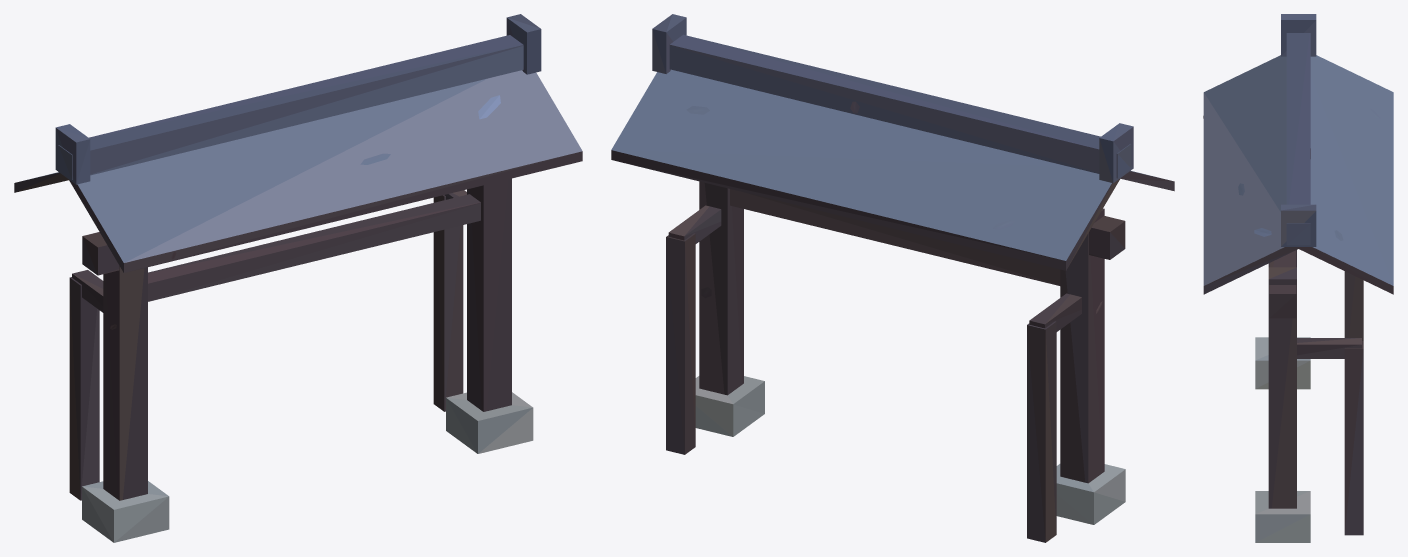
Rendered from HK_Gate.lod.glb.
3 views of the same model, side by side, from view 1: azimuth 30°, elevation 25°; view 2: azimuth 150°, elevation 25°; view 3: azimuth 270°, elevation 25° (orthographic). The views are drawn at different scales.
Parts seen in each view (by area): view 1: HK_Gate; view 2: HK_Gate; view 3: HK_Gate.
Part boxes in pixels (left/top/right/bottom): HK_Gate: left=14, top=14, right=582, bottom=542; HK_Gate: left=611, top=14, right=1174, bottom=542; HK_Gate: left=1203, top=14, right=1393, bottom=542.
Size of the model in its own units: 5.9 by 4.77 by 2.4.
